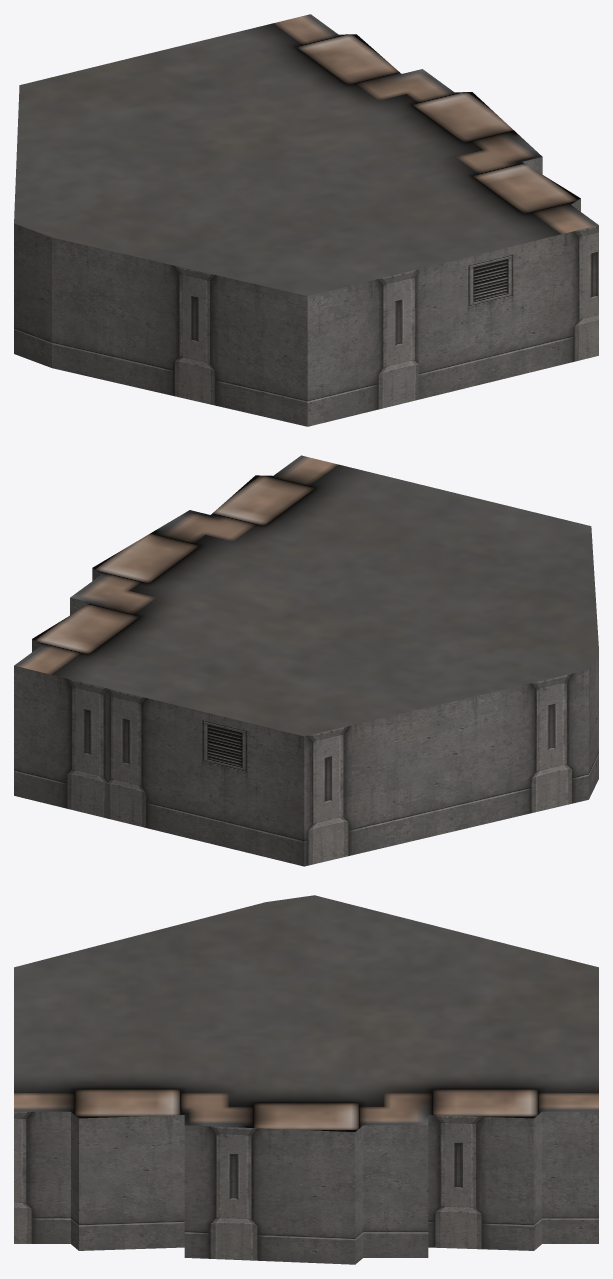
Rendered from building_hard_57.glb.
The picture shows the model from 3 angles, top to bottom: view 1: azimuth 30°, elevation 25°; view 2: azimuth 150°, elevation 25°; view 3: azimuth 270°, elevation 25°; orthographic projection.
Parts seen in each view (by area): view 1: buildings/saxarba/building_hard/building_hard_57; view 2: buildings/saxarba/building_hard/building_hard_57; view 3: buildings/saxarba/building_hard/building_hard_57.
Part boxes in pixels (box(x1,y1,x2,y2)): buildings/saxarba/building_hard/building_hard_57: box(14, 14, 598, 426); buildings/saxarba/building_hard/building_hard_57: box(14, 455, 598, 866); buildings/saxarba/building_hard/building_hard_57: box(14, 895, 598, 1264).
Size of the model in its own units: 69 by 18 by 72.
